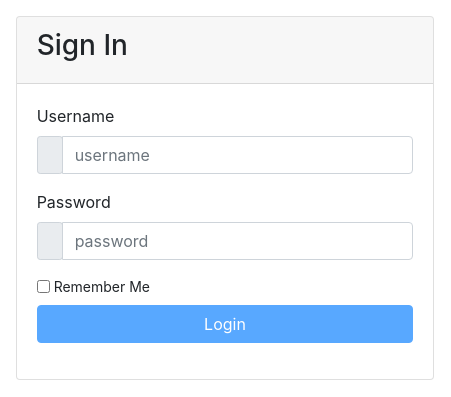
Test: Login page tests › Login button is enabled after filling userName and password fields
Expected: the button "Login" is disabled, [37,305,413,343]
Type "test" into the field labelled "Username".
click(237, 155); type("test")  # box [62,136,413,174]
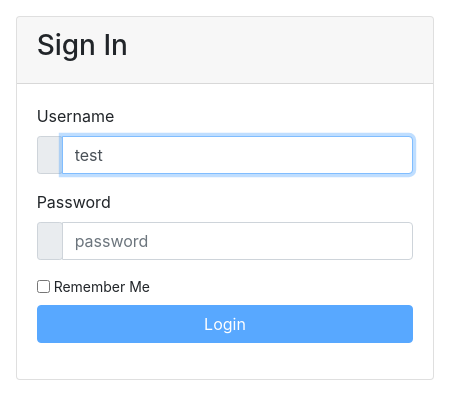
Type "test" into the password field labelled "Password".
click(237, 241); type("test")  # box [62,222,413,260]
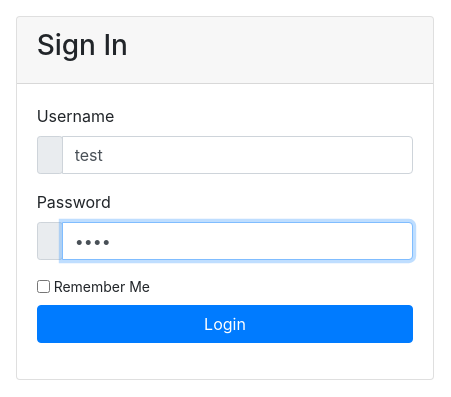
Expected: the button "Login" is enabled, [37,305,413,343]
